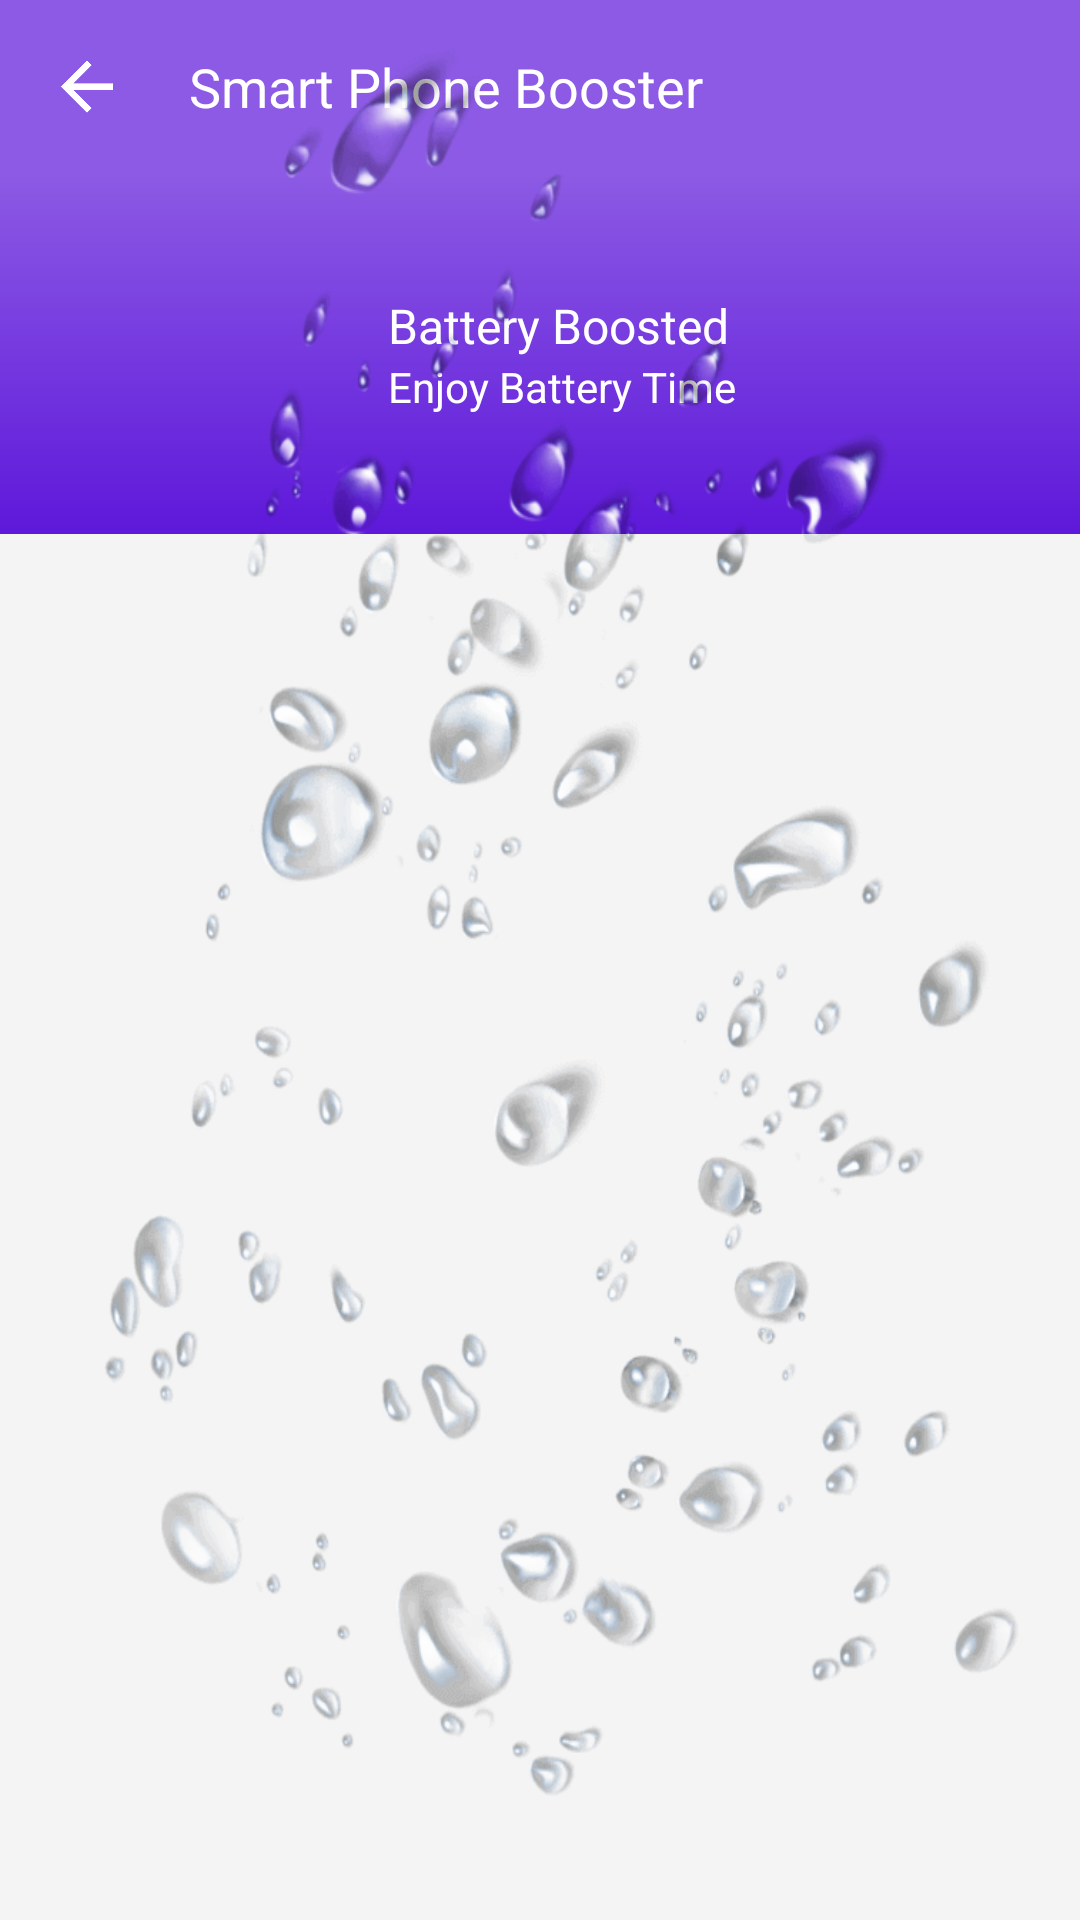

Named icons in this screenshot (1080×1920) and their bounding boxes, (x1, y1, x2, y2):
arrow: (61, 61, 113, 112)
